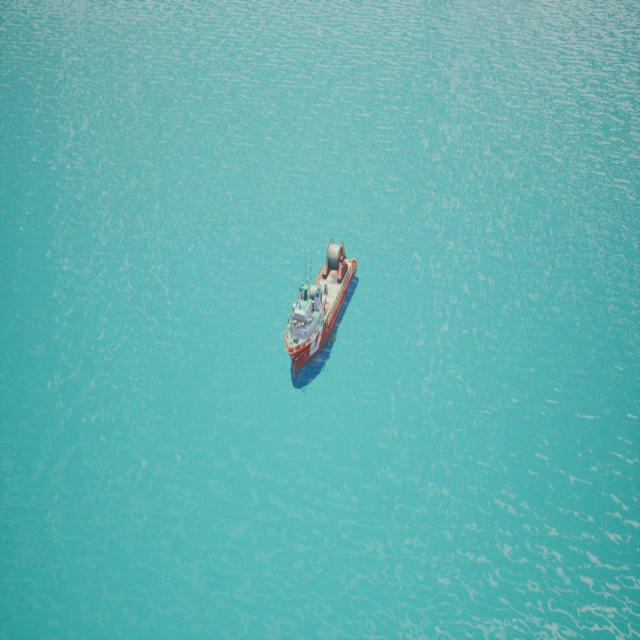tug boat: (267, 210, 385, 393)
